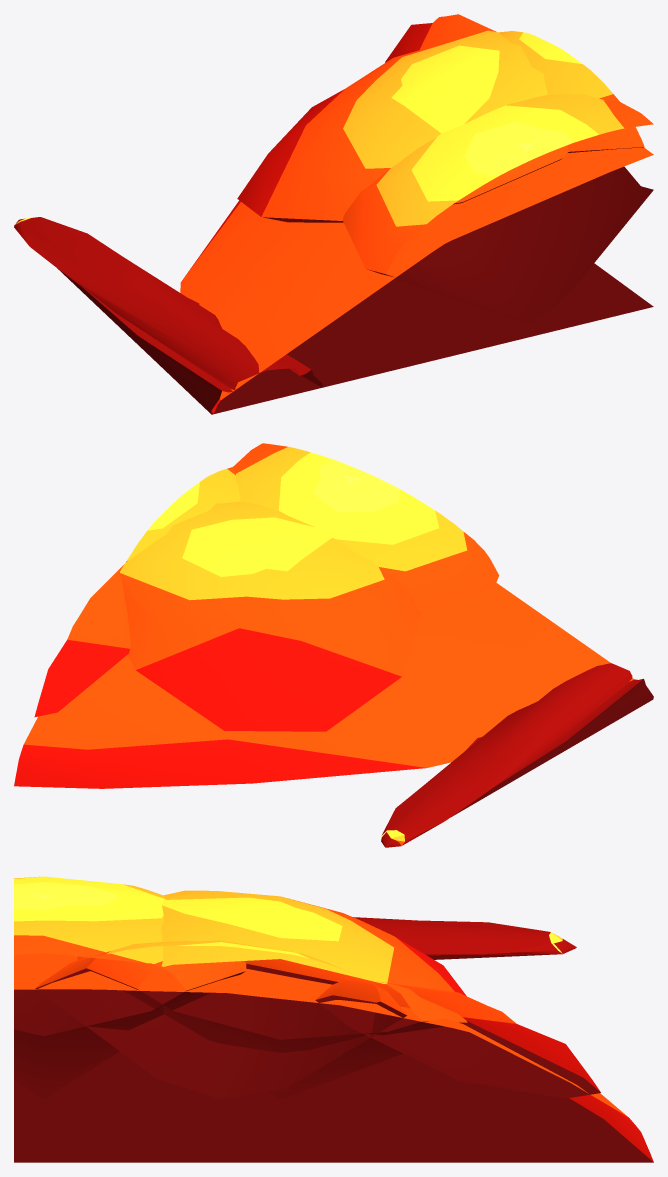
File: shot_dflame_9.glb
3 views of the same model, one above another, from view 1: azimuth 30°, elevation 25°; view 2: azimuth 150°, elevation 25°; view 3: azimuth 270°, elevation 25° (orthographic). The views are drawn at different scales.
Parts seen in each view (by area): view 1: dflame_wall_bed_b9, dflame_wall_billow5_b9, dflame_wall_billow10_b9, dflame_wall_tongue1_b9, dflame_wall_billow4_b9, dflame_wall_billow8_b9; view 2: dflame_wall_billow10_b9, dflame_wall_bed_b9, dflame_wall_billow5_b9, dflame_wall_tongue1_b9, dflame_wall_billow8_b9, dflame_wall_billow4_b9; view 3: dflame_wall_bed_b9, dflame_wall_billow10_b9, dflame_wall_billow4_b9, dflame_wall_billow5_b9, dflame_wall_billow8_b9, dflame_wall_tongue1_b9.
Part boxes in pixels (left/top/right/bottom): dflame_wall_bed_b9: left=180, top=147, right=653, bottom=413; dflame_wall_billow5_b9: left=342, top=93, right=653, bottom=324; dflame_wall_billow10_b9: left=237, top=30, right=568, bottom=222; dflame_wall_tongue1_b9: left=14, top=217, right=322, bottom=414; dflame_wall_billow4_b9: left=499, top=31, right=644, bottom=152; dflame_wall_billow8_b9: left=385, top=14, right=496, bottom=62; dflame_wall_billow10_b9: left=120, top=501, right=422, bottom=731; dflame_wall_bed_b9: left=14, top=583, right=633, bottom=788; dflame_wall_billow5_b9: left=233, top=443, right=499, bottom=612; dflame_wall_tongue1_b9: left=381, top=663, right=653, bottom=847; dflame_wall_billow8_b9: left=34, top=565, right=130, bottom=717; dflame_wall_billow4_b9: left=126, top=467, right=240, bottom=561; dflame_wall_bed_b9: left=14, top=953, right=653, bottom=1162; dflame_wall_billow10_b9: left=77, top=890, right=467, bottom=1099; dflame_wall_billow4_b9: left=35, top=940, right=406, bottom=1099; dflame_wall_billow5_b9: left=14, top=876, right=246, bottom=1099; dflame_wall_billow8_b9: left=315, top=978, right=600, bottom=1098; dflame_wall_tongue1_b9: left=353, top=917, right=576, bottom=959.
Bounding box in the file's own units: 9.82 × 4.04 × 10.8.
